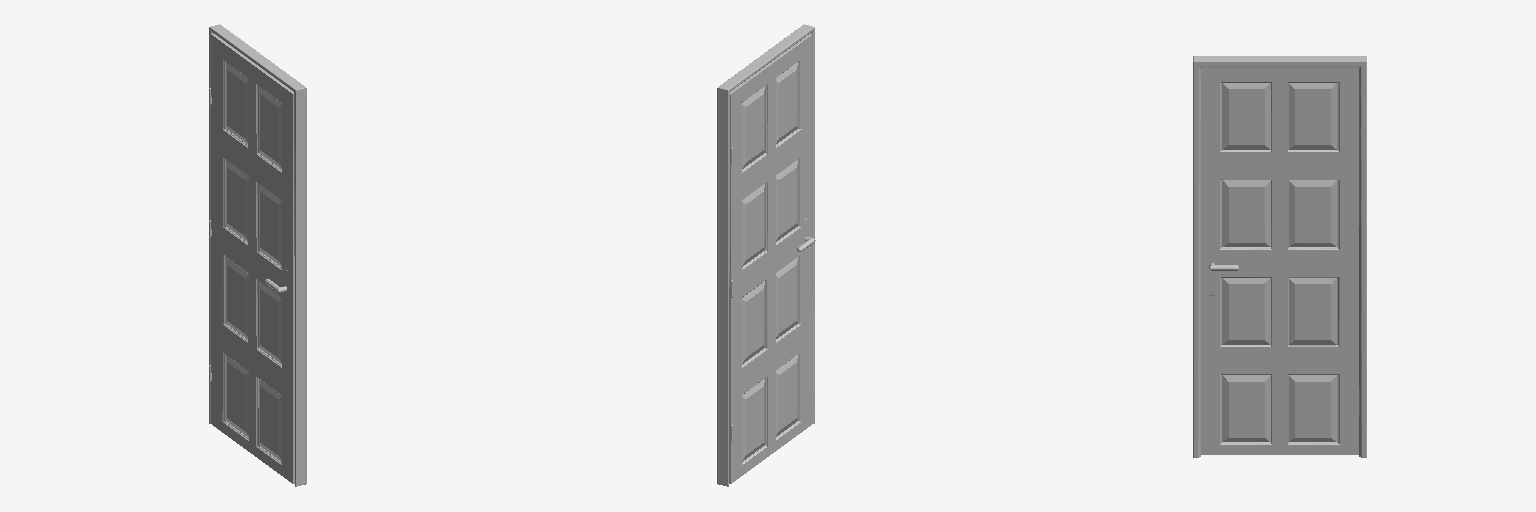
The model's file is uploads_files_3300784_Door1.obj.
3 renders of one model, left to right at view 1: azimuth 30°, elevation 25°; view 2: azimuth 150°, elevation 25°; view 3: azimuth 270°, elevation 25°, orthographic.
Visible parts, largest first — view 1: Door1; view 2: Door1; view 3: Door1.
Boxes of the visible parts, <box> form: Door1: <box>209,24,306,486</box>; Door1: <box>717,24,815,486</box>; Door1: <box>1193,56,1366,457</box>.
Size of the model in its own units: 0.1438 by 2.14 by 0.8472.